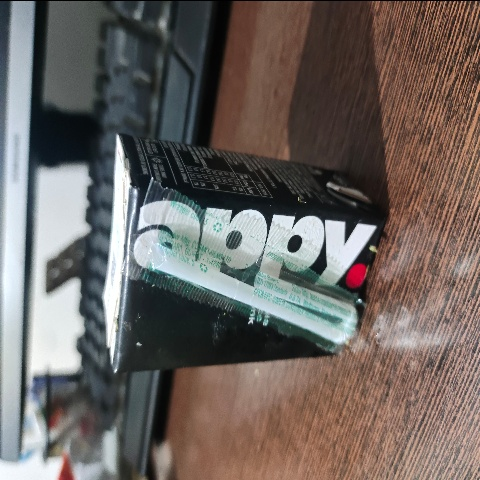appy: (82, 121, 386, 386)
